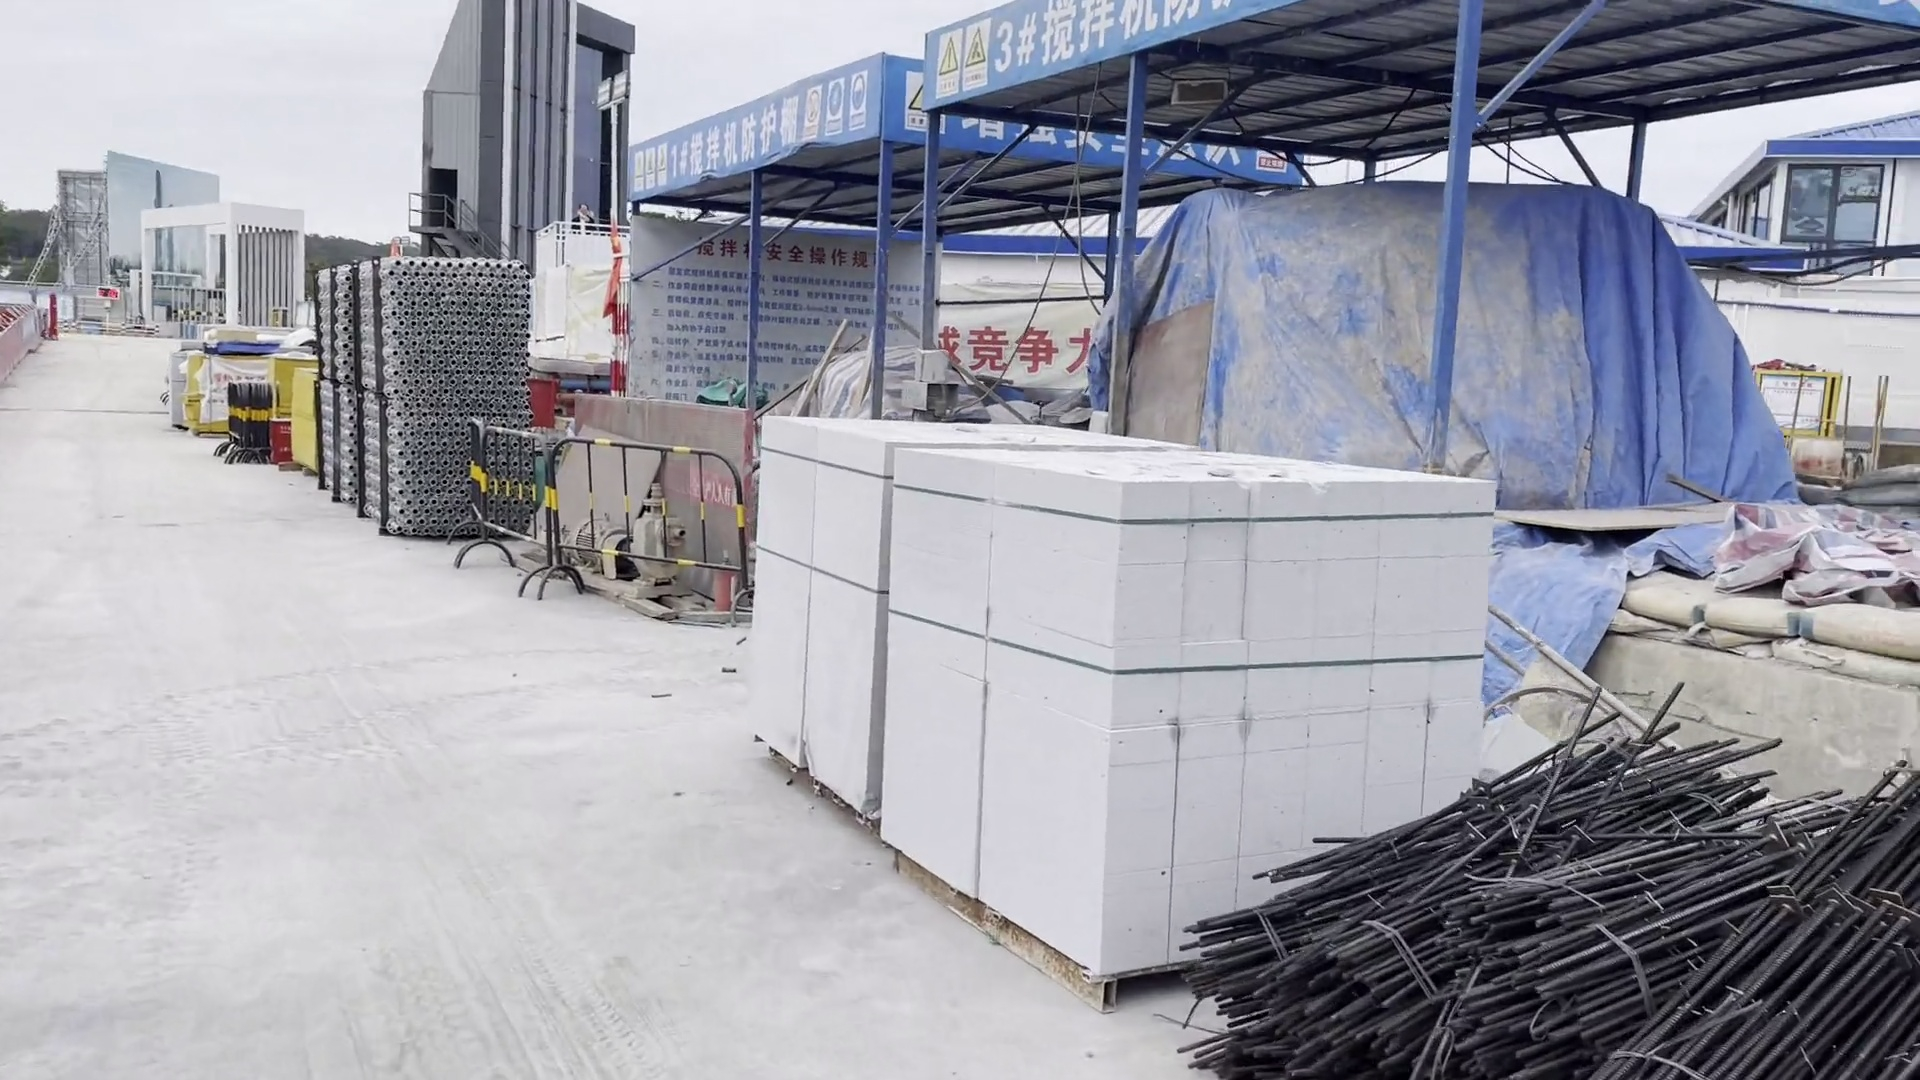brick: (698, 385, 1515, 964)
scaffold: (313, 252, 539, 527)
